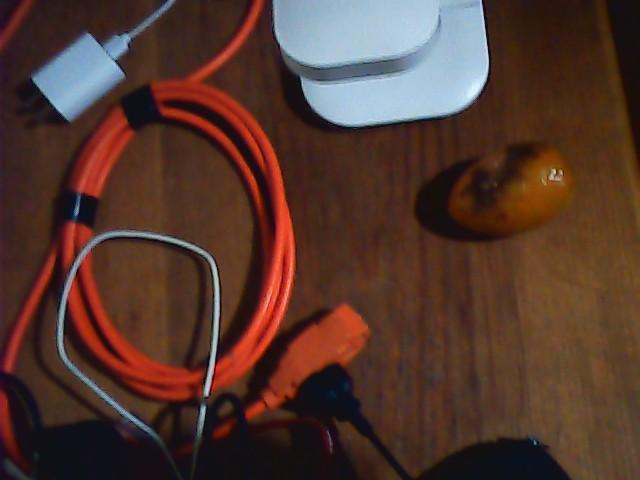defectuoso: (445, 142, 578, 234)
